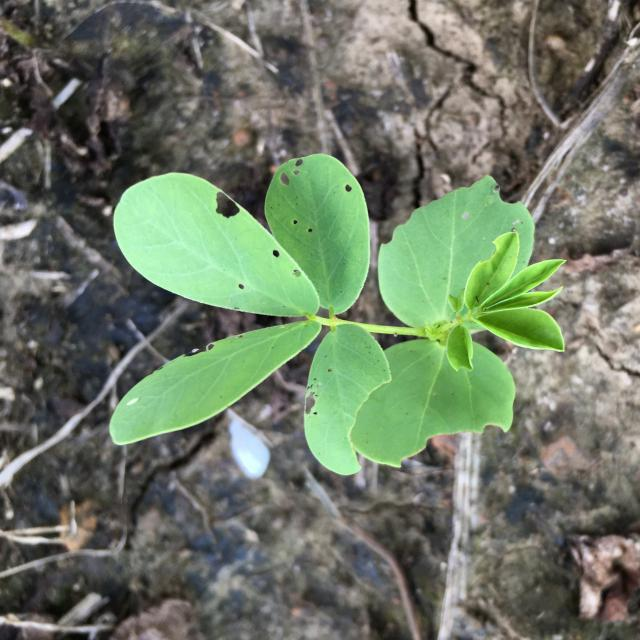Sicklepod: (110, 153, 565, 476)
